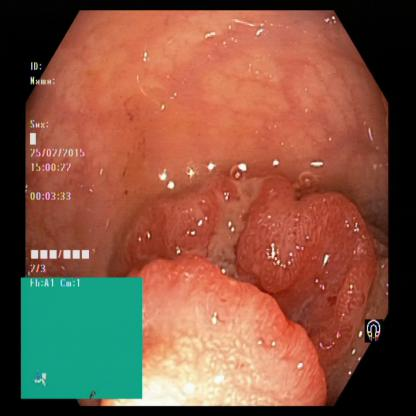Labels: (24, 58, 108, 278), (20, 279, 143, 400), (357, 306, 390, 347)
Polyps: (157, 270, 319, 404), (247, 198, 358, 294)
